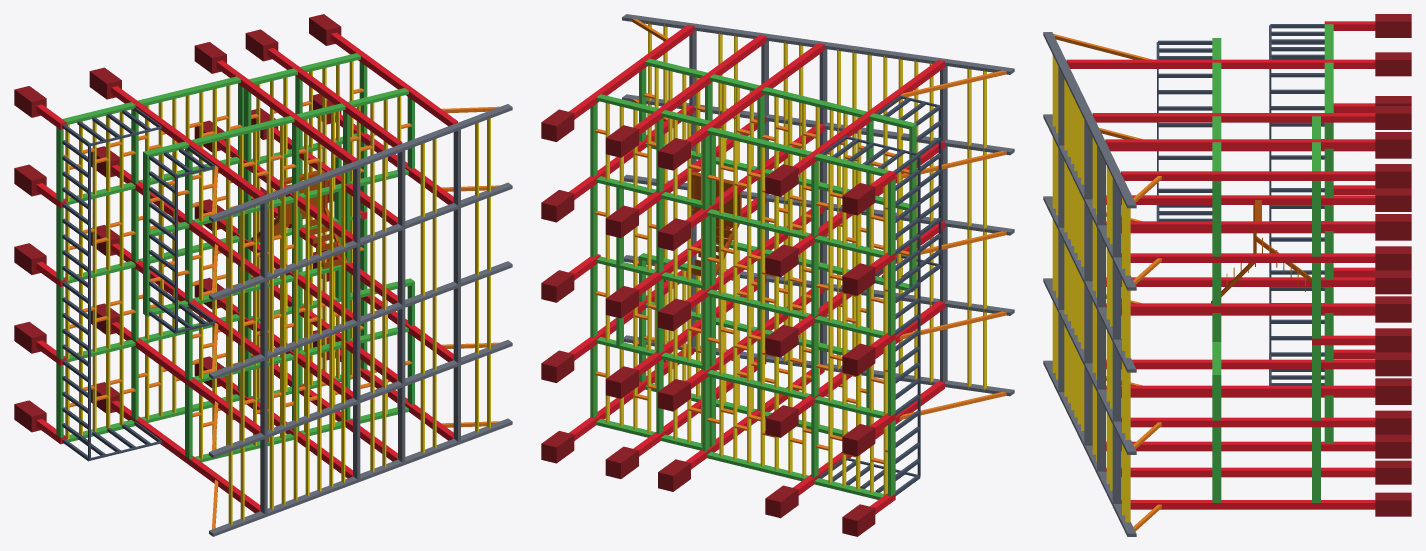
File: tinker.obj
3 renders of one model, left to right at view 1: azimuth 30°, elevation 25°; view 2: azimuth 150°, elevation 25°; view 3: azimuth 270°, elevation 25°, orthographic. The views are drawn at different scales.
Parts seen in each view (by area): view 1: obj_575, obj_574, obj_2, obj_15, obj_1, obj_3, obj_20, obj_4, obj_6, obj_11, obj_7, obj_21 (+42 smaller); view 2: obj_575, obj_574, obj_2, obj_1, obj_3, obj_4, obj_15, obj_7, obj_21, obj_20, obj_12, obj_16 (+60 smaller); view 3: obj_575, obj_574, obj_1, obj_2, obj_18, obj_3, obj_17, obj_22, obj_4, obj_16, obj_21, obj_9 (+61 smaller).
Boxes of the visible parts, bbox=[...] form: obj_575: bbox=[62, 107, 162, 461]; obj_574: bbox=[149, 146, 215, 333]; obj_2: bbox=[216, 60, 357, 163]; obj_15: bbox=[111, 322, 260, 434]; obj_1: bbox=[111, 86, 264, 198]; obj_3: bbox=[267, 48, 402, 146]; obj_20: bbox=[111, 400, 260, 513]; obj_4: bbox=[330, 32, 457, 126]; obj_6: bbox=[111, 164, 260, 277]; obj_11: bbox=[111, 243, 260, 355]; obj_7: bbox=[217, 139, 353, 242]; obj_21: bbox=[217, 376, 353, 478]; obj_575: bbox=[818, 135, 920, 495]; obj_574: bbox=[875, 95, 941, 282]; obj_2: bbox=[685, 43, 824, 147]; obj_1: bbox=[793, 60, 944, 173]; obj_3: bbox=[633, 35, 766, 135]; obj_4: bbox=[569, 25, 694, 119]; obj_15: bbox=[793, 301, 944, 414]; obj_7: bbox=[685, 124, 824, 228]; obj_21: bbox=[685, 368, 824, 469]; obj_20: bbox=[793, 381, 944, 495]; obj_12: bbox=[685, 206, 824, 308]; obj_16: bbox=[685, 288, 824, 388]; obj_575: bbox=[1269, 24, 1324, 385]; obj_574: bbox=[1156, 40, 1212, 221]; obj_1: bbox=[1066, 59, 1375, 68]; obj_2: bbox=[1092, 113, 1375, 122]; obj_18: bbox=[1121, 417, 1375, 427]; obj_3: bbox=[1105, 139, 1375, 148]; obj_17: bbox=[1106, 385, 1375, 395]; obj_22: bbox=[1106, 467, 1375, 477]; obj_4: bbox=[1121, 171, 1375, 180]; obj_16: bbox=[1106, 359, 1375, 369]; obj_21: bbox=[1106, 441, 1375, 451]; obj_9: bbox=[1121, 253, 1375, 262].
Bounding box in the file's own units: 120 × 105 × 102.
